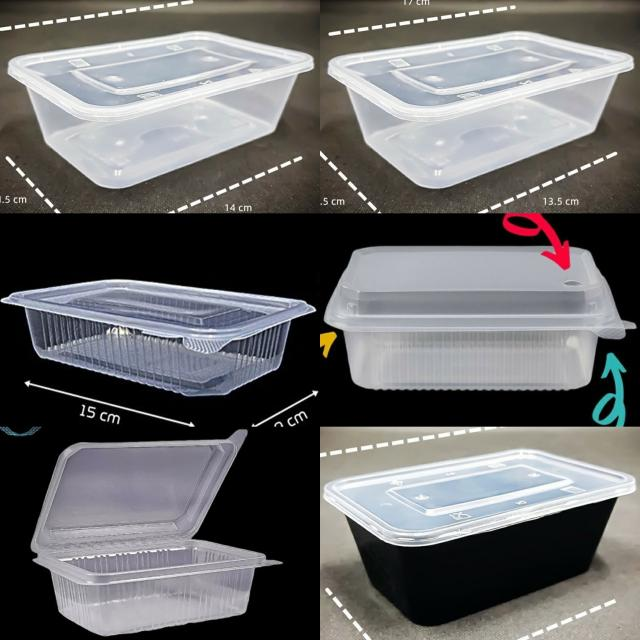Single-Use-Plastic: (324, 449, 635, 625), (31, 430, 280, 635), (328, 31, 633, 189), (8, 31, 314, 188), (325, 244, 635, 390), (3, 279, 314, 396)
